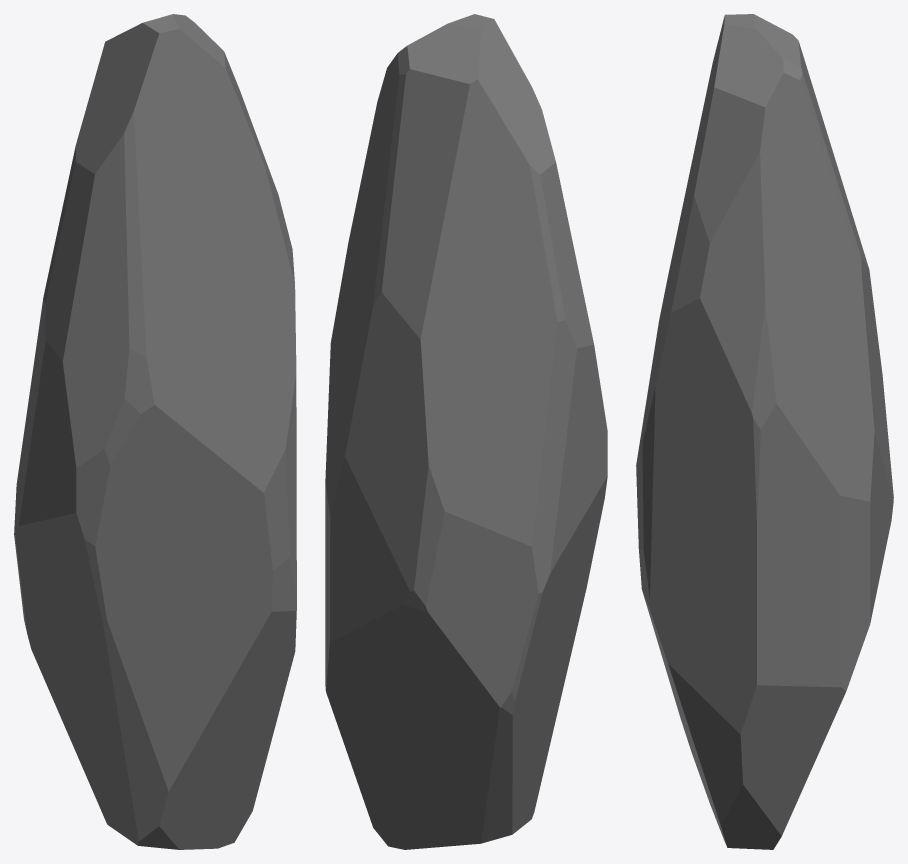
File: SM_pal_b07_PaldiumCrystal_02_3e214b.glb
3 views of the same model, side by side, from view 1: azimuth 30°, elevation 25°; view 2: azimuth 150°, elevation 25°; view 3: azimuth 270°, elevation 25° (orthographic). The views are drawn at different scales.
Size of the model in its own units: 7.4 by 24.08 by 7.05.
Materials: 1 (1 with a texture image).
